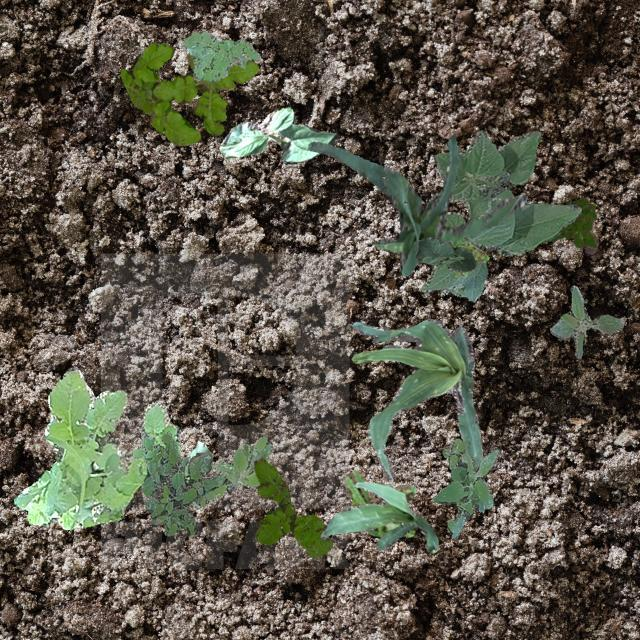crop: (308, 133, 526, 274), (420, 130, 580, 300), (346, 318, 482, 480), (319, 481, 436, 552), (218, 106, 338, 162), (412, 236, 474, 270), (182, 440, 212, 482)
weed: (13, 364, 179, 530), (119, 40, 258, 144), (132, 432, 226, 534), (252, 456, 332, 556), (432, 438, 498, 538), (548, 284, 622, 358), (342, 468, 414, 536), (204, 436, 272, 502), (180, 29, 260, 82), (548, 196, 598, 248), (453, 240, 487, 278)
